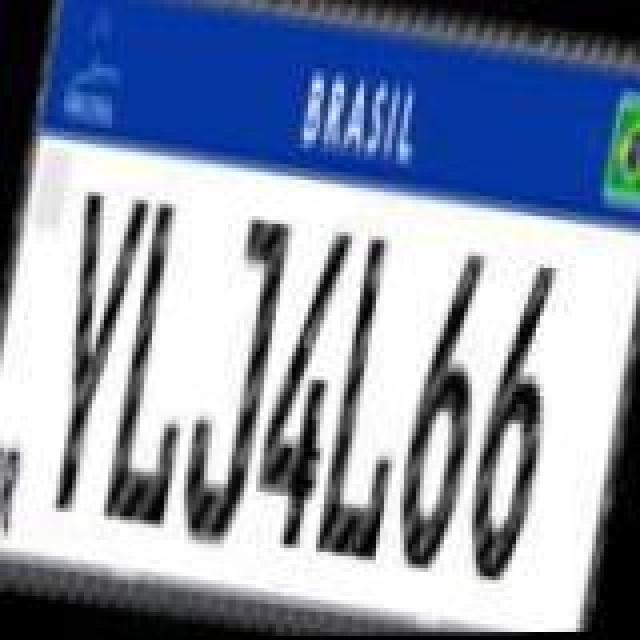4: (244, 222, 360, 554)
6: (388, 242, 504, 574), (456, 256, 572, 588)
J: (170, 210, 290, 550)
L: (100, 198, 220, 530), (316, 234, 432, 566)
Y: (28, 182, 148, 518)
